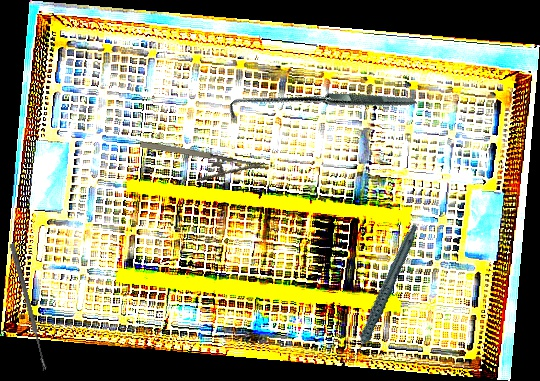Handpiece: (321, 223, 444, 365)
Hook Surgical: (224, 11, 418, 203)
Needle Holder: (135, 137, 270, 195)
Surgical Spoon: (8, 242, 49, 372)
